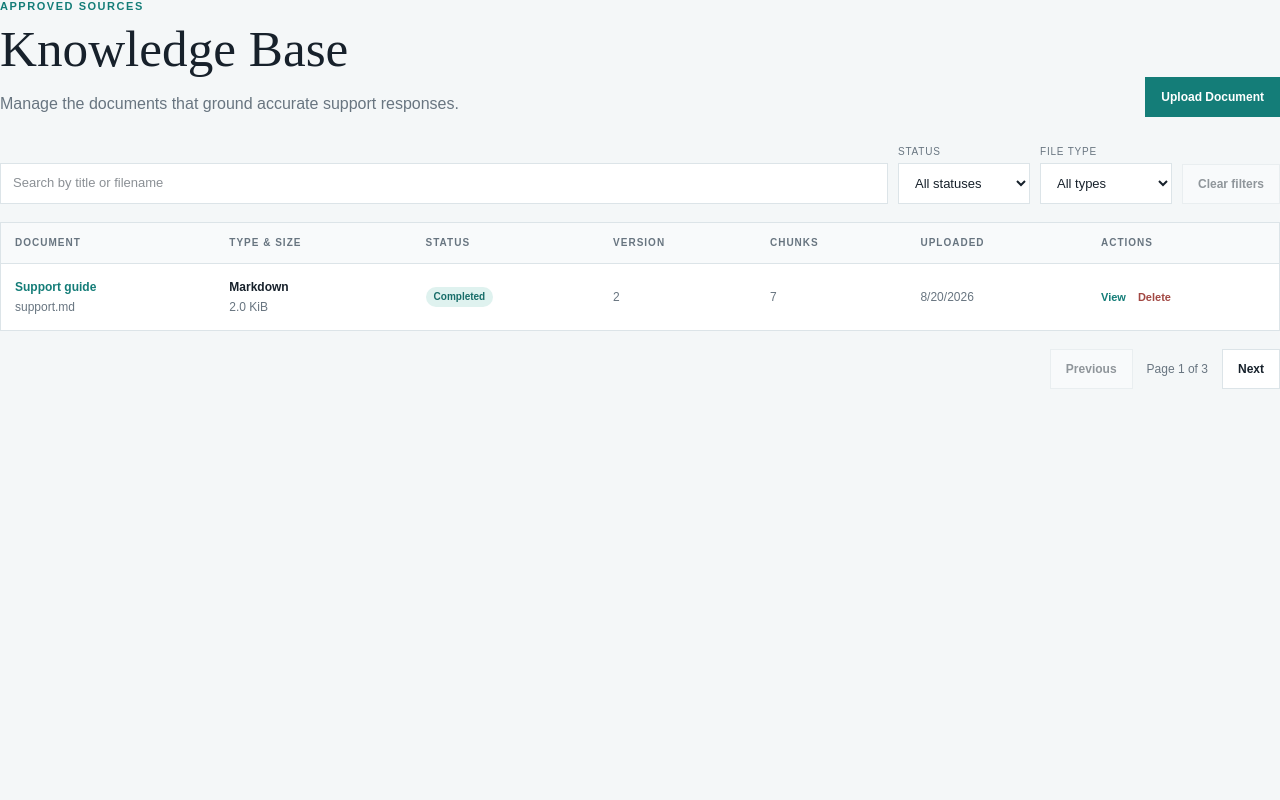
it: DocumentList › keeps the confirmation open on delete failure
The image size is (1280, 800).
Click the button "Delete": click(1154, 297) [1138,290,1171,304]
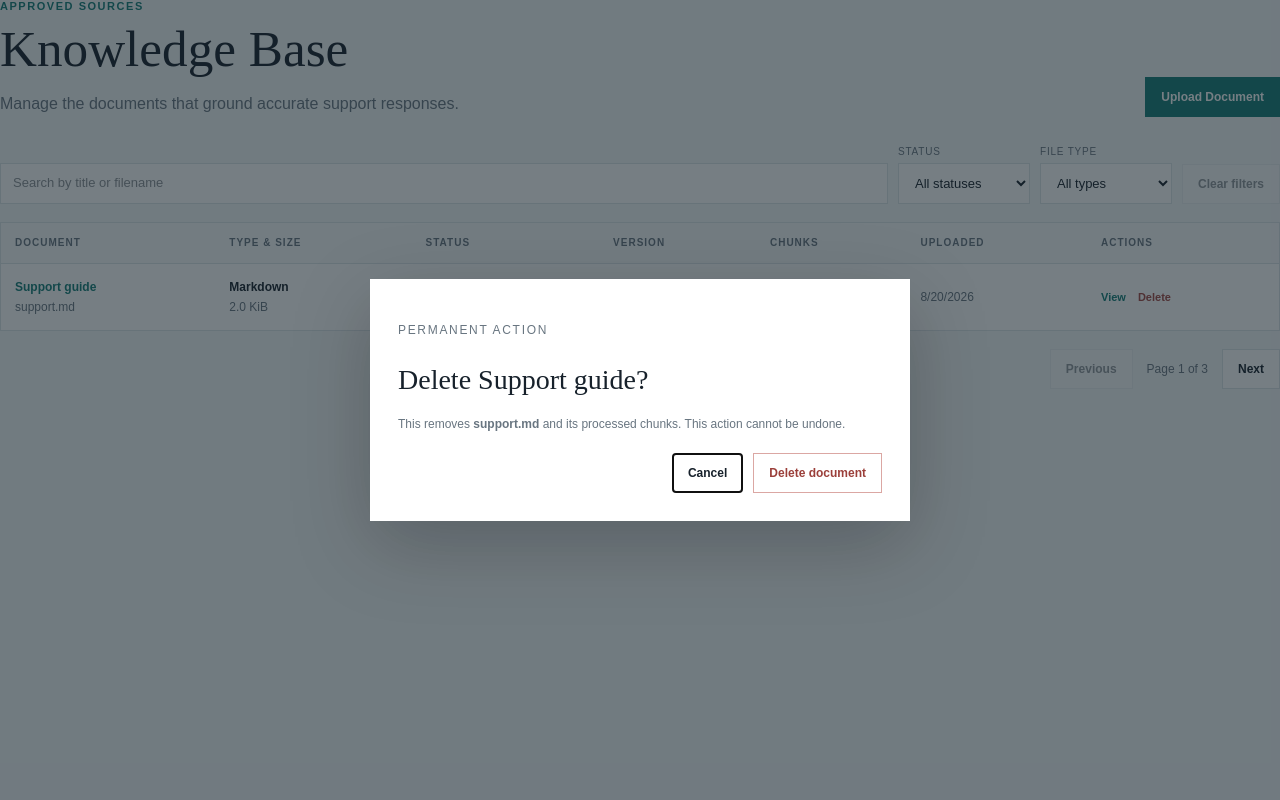
Click the button "Delete document": click(818, 473) [753,453,882,493]
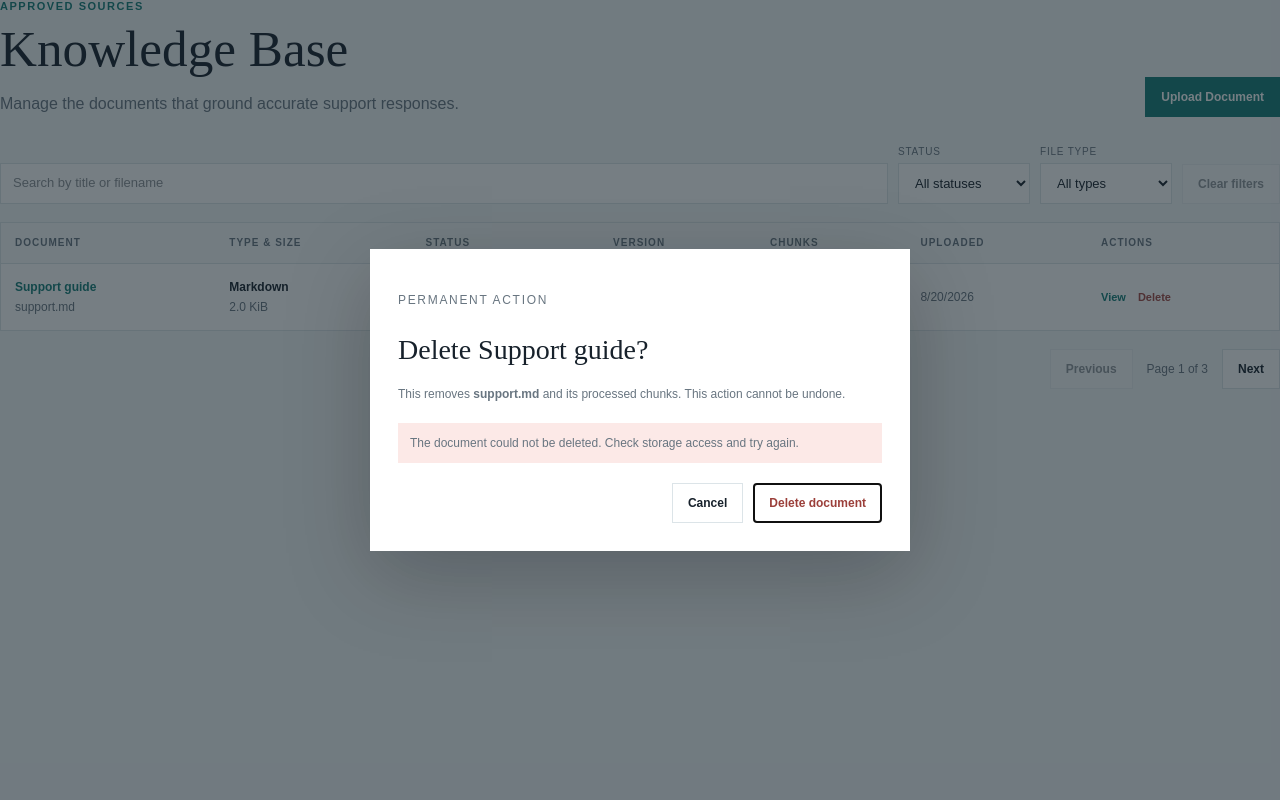
expect the message shows "could not be deleted": met, box [410,436,799,450]
